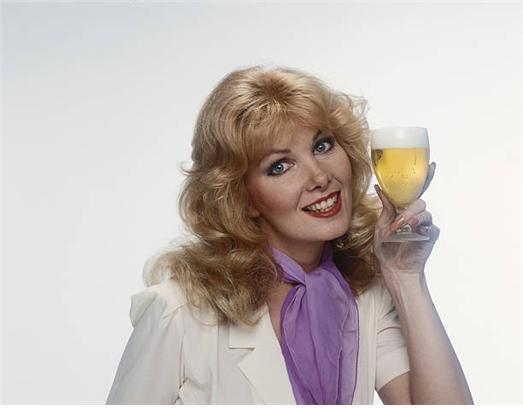alcohol: (367, 125, 432, 241)
